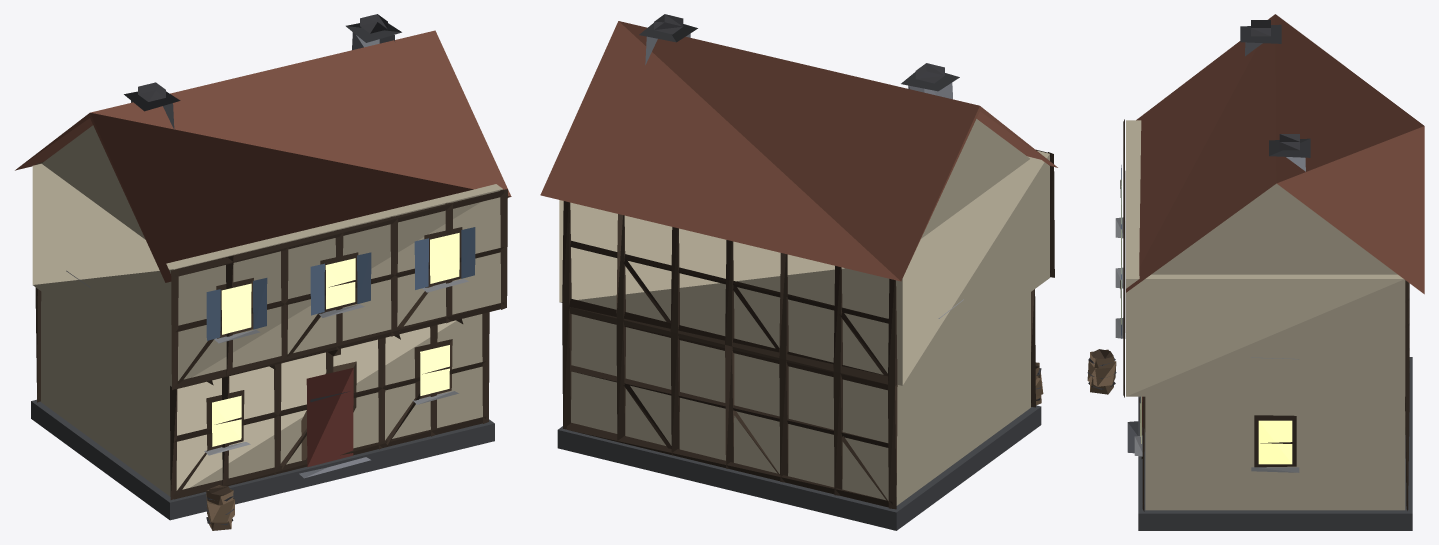
The model's file is bree_house_timber_1_lod1.glb.
3 views of the same model, side by side, from view 1: azimuth 30°, elevation 25°; view 2: azimuth 150°, elevation 25°; view 3: azimuth 270°, elevation 25° (orthographic). The views are drawn at different scales.
Parts seen in each view (by area): view 1: bree_house_timber_1_lod1; view 2: bree_house_timber_1_lod1; view 3: bree_house_timber_1_lod1.
Part boxes in pixels (<box>): bree_house_timber_1_lod1: <box>15,14,511,530</box>; bree_house_timber_1_lod1: <box>540,14,1057,530</box>; bree_house_timber_1_lod1: <box>1087,14,1424,530</box>.
Size of the model in its own units: 8.2 by 8.51 by 7.01.
